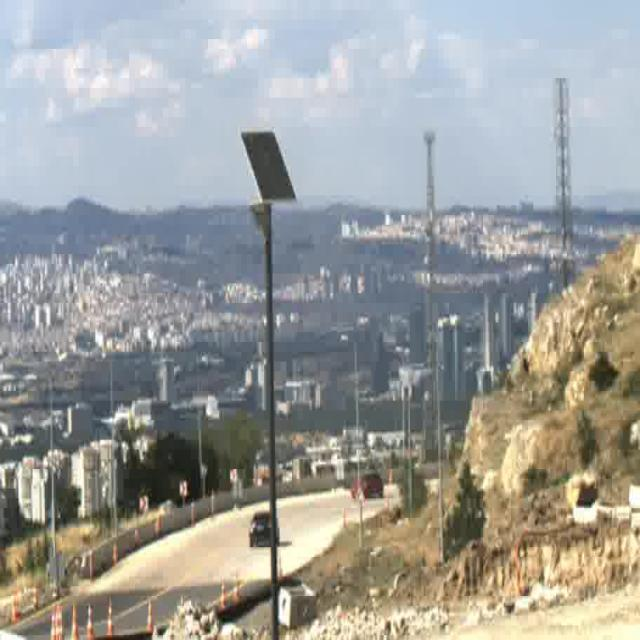Car: (249, 511, 279, 549), (352, 472, 383, 498)
